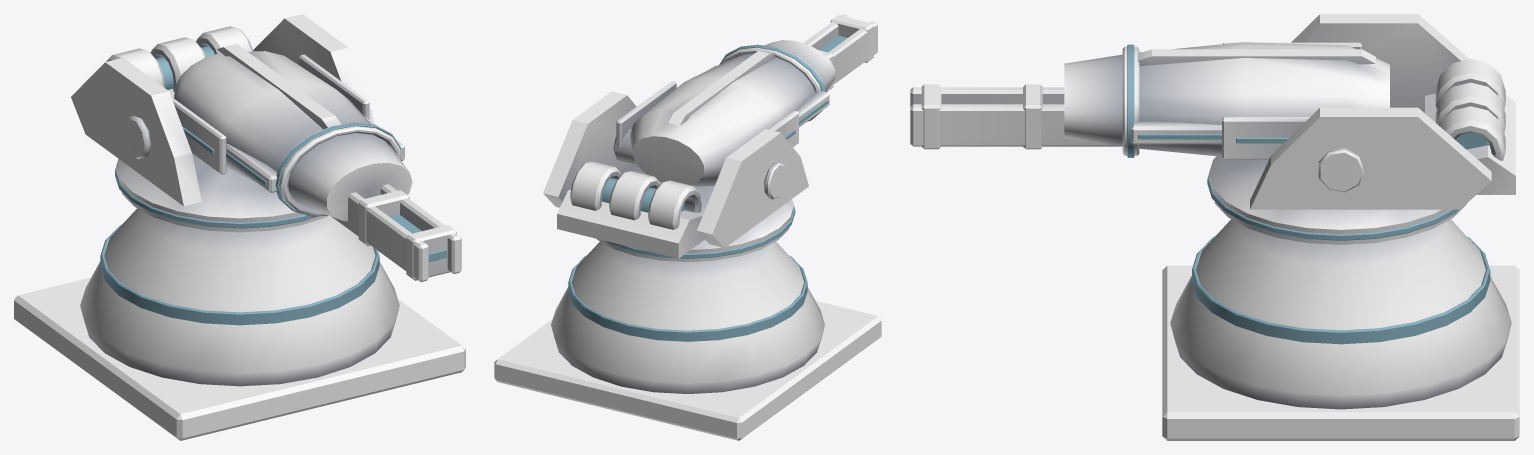
The model's file is R4W_Basic_LOD1.fbx.
The picture shows the model from 3 angles, left to right: view 1: azimuth 30°, elevation 25°; view 2: azimuth 150°, elevation 25°; view 3: azimuth 270°, elevation 25°; orthographic projection. The views are drawn at different scales.
Parts seen in each view (by area): view 1: R4W_Basic_LOD1; view 2: R4W_Basic_LOD1; view 3: R4W_Basic_LOD1.
Part boxes in pixels (box(x1,y1,x2,y2)): R4W_Basic_LOD1: box(14, 14, 465, 440); R4W_Basic_LOD1: box(494, 14, 881, 440); R4W_Basic_LOD1: box(910, 14, 1519, 440).
Size of the model in its own units: 0.51 by 0.496 by 0.87.
